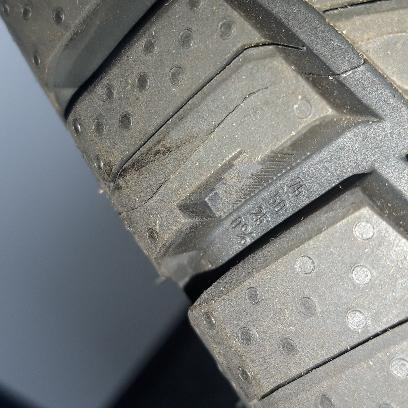temoin:100: (173, 143, 315, 226)
